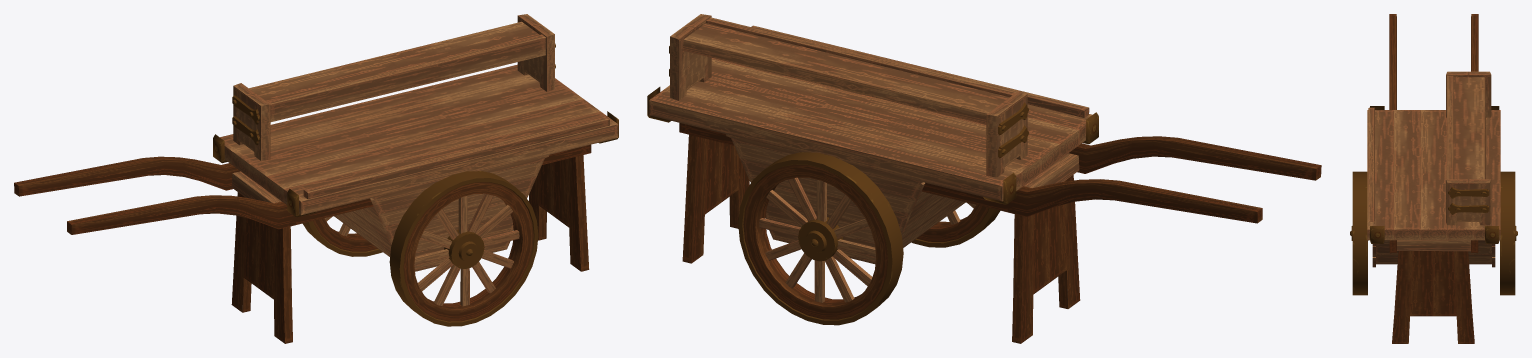
The model's file is haul_cart.gltf.
3 renders of one model, left to right at view 1: azimuth 30°, elevation 25°; view 2: azimuth 150°, elevation 25°; view 3: azimuth 270°, elevation 25°, orthographic. The views are drawn at different scales.
Visible parts, largest first — view 1: Stall_Cart_Empty; view 2: Stall_Cart_Empty; view 3: Stall_Cart_Empty.
Boxes of the visible parts, x1,y1,x2,y2 form: Stall_Cart_Empty: (14,14,618,343); Stall_Cart_Empty: (647,14,1321,343); Stall_Cart_Empty: (1350,14,1517,343).
Size of the model in its own units: 3.02 by 1.13 by 1.06.
Materials: 2 (2 with a texture image).
